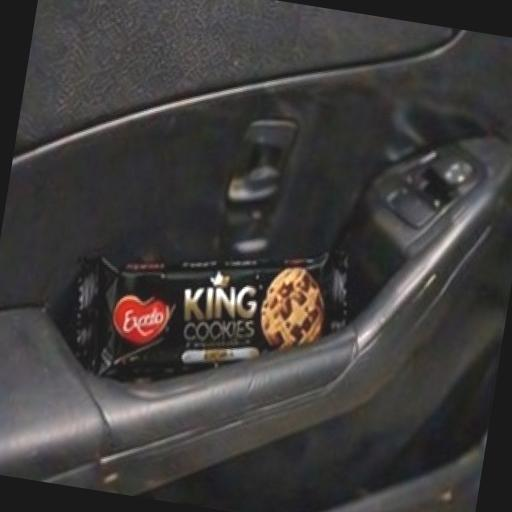king-cooking: (32, 176, 412, 441)
